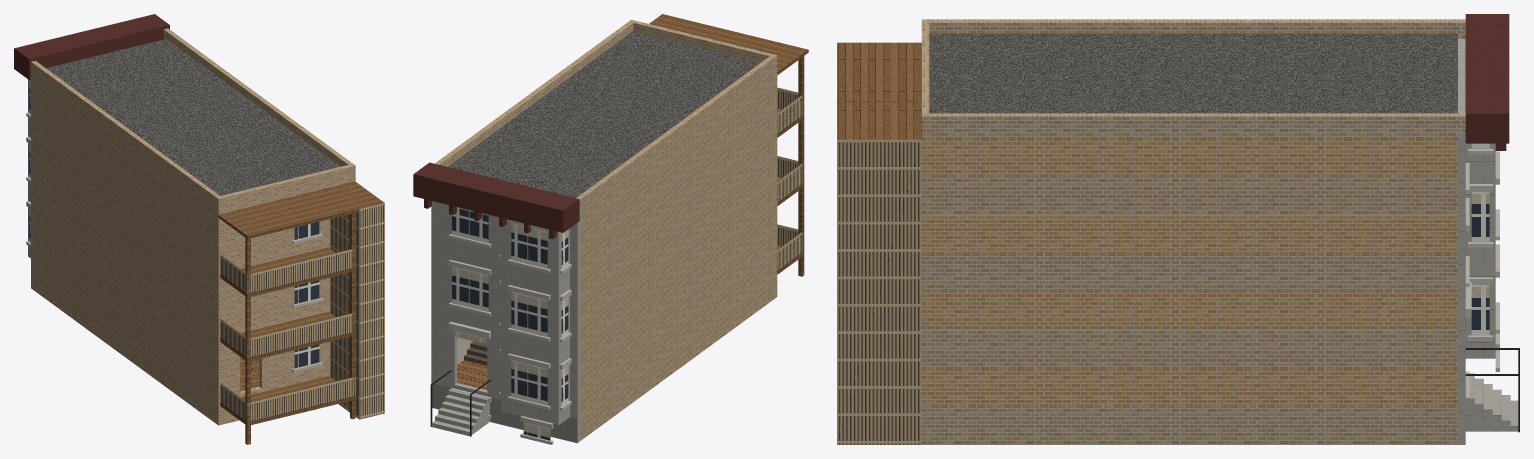
Rendered from three_flat_grey_1.glb.
3 renders of one model, left to right at view 1: azimuth 30°, elevation 25°; view 2: azimuth 150°, elevation 25°; view 3: azimuth 270°, elevation 25°, orthographic. The views are drawn at different scales.
Parts seen in each view (by area): view 1: three_flat_grey_1; view 2: three_flat_grey_1; view 3: three_flat_grey_1.
Boxes of the visible parts, x1,y1,x2,y2 form: three_flat_grey_1: (14,14,384,444); three_flat_grey_1: (413,14,808,444); three_flat_grey_1: (837,14,1519,444).
Bounding box in the file's own units: 7.8 × 12.15 × 22.6.
Materials: 13 (13 with a texture image).
